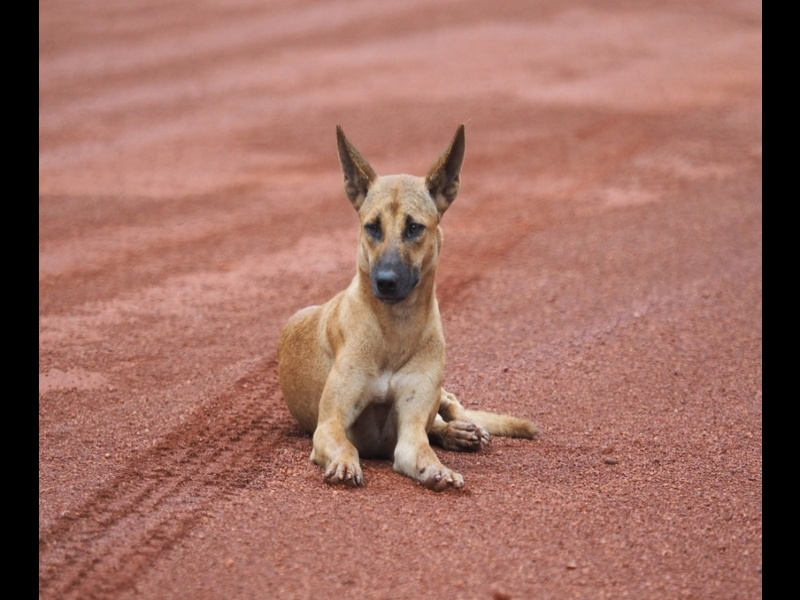dog: (268, 119, 553, 496)
